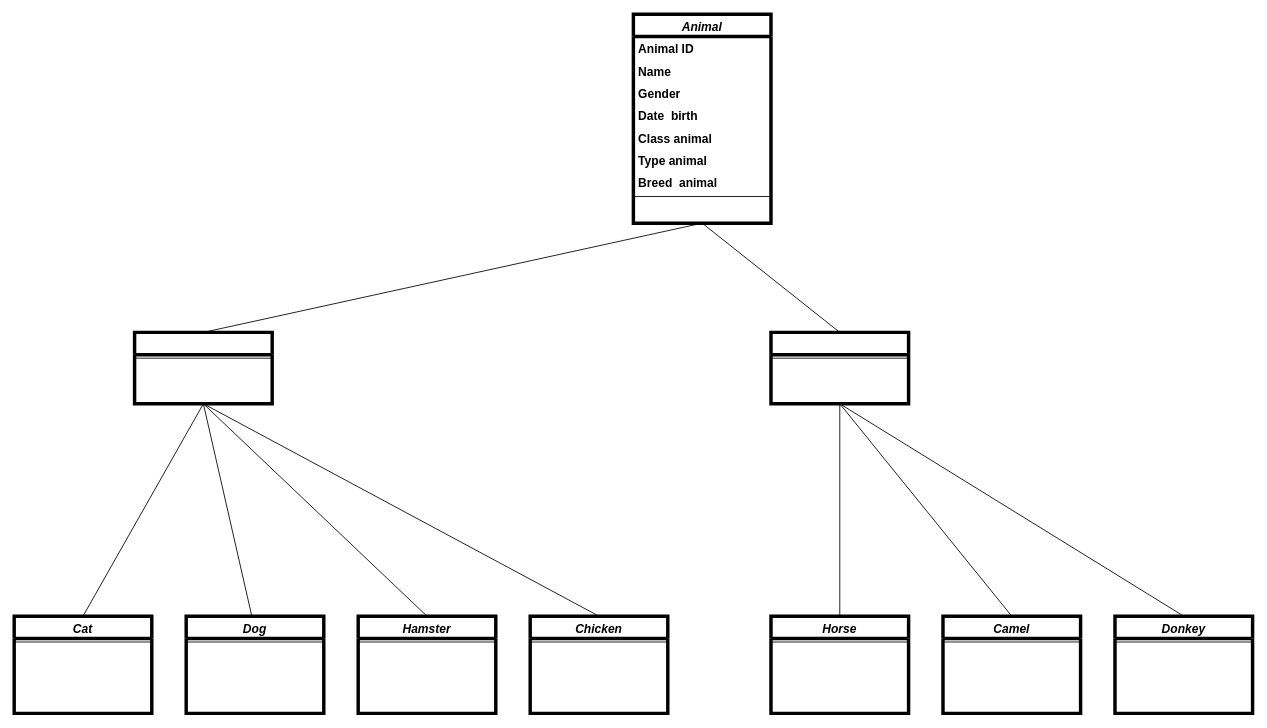
The diagram is 1267 pixels wide and 728 high, and some of its shapes have lost their labels. The shapes that lost their labels are listed below. From the top down, each one's centre as x and y in pixels, then its label:
At (202,367): "Home_animal".
At (839,367): "Pack_animal".
